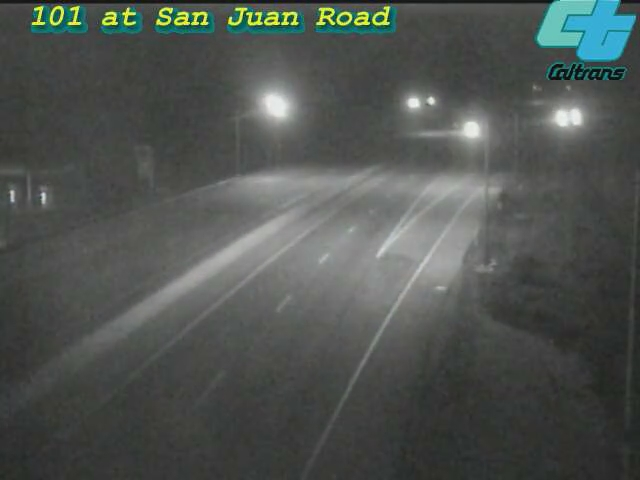vehicle: (447, 105, 497, 155), (539, 94, 589, 144), (551, 93, 601, 143)
